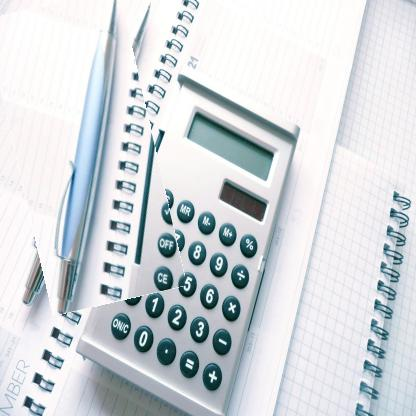Pen: (1, 0, 170, 310)
